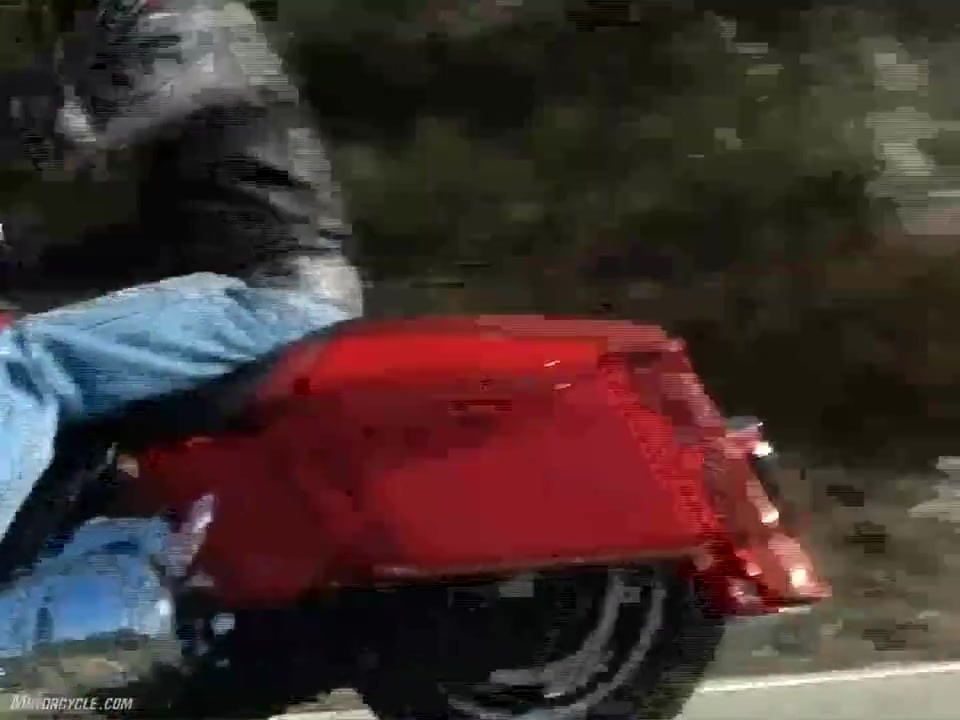motorbike: (1, 302, 832, 720)
